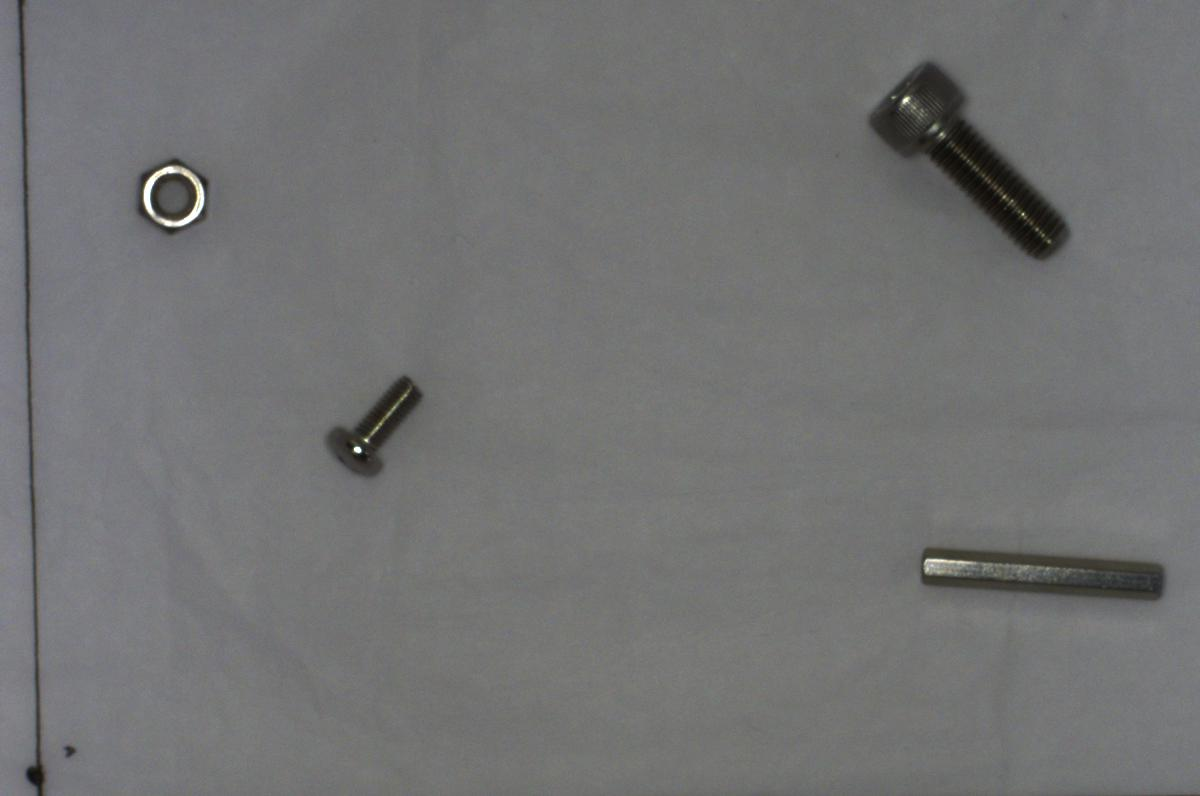Double hexagonal column: (906, 533, 1175, 618)
Hexagon nut: (124, 154, 221, 236)
Hexagon screw: (853, 54, 1079, 267)
Round head screw: (314, 366, 433, 493)
